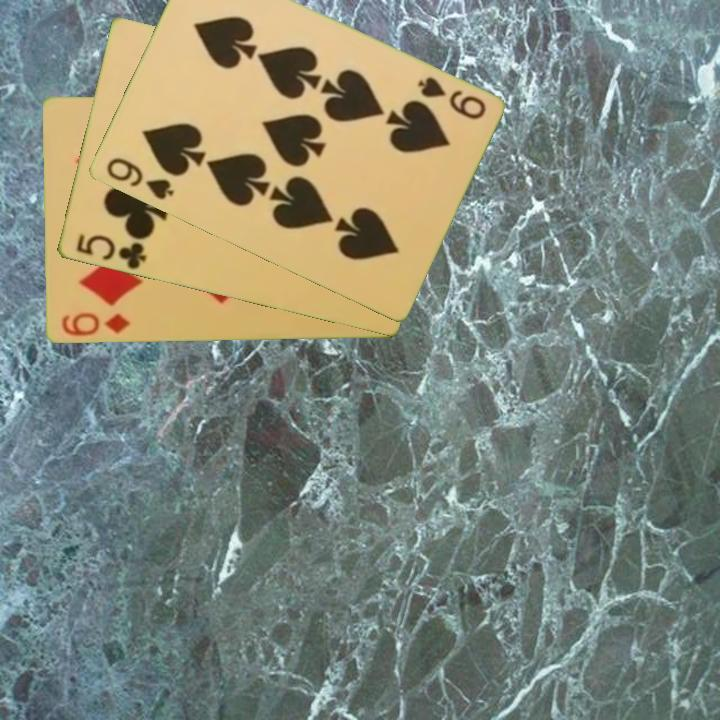5c: (72, 231, 149, 272)
6d: (58, 310, 132, 340)
9s: (413, 73, 489, 123), (102, 154, 176, 203)
